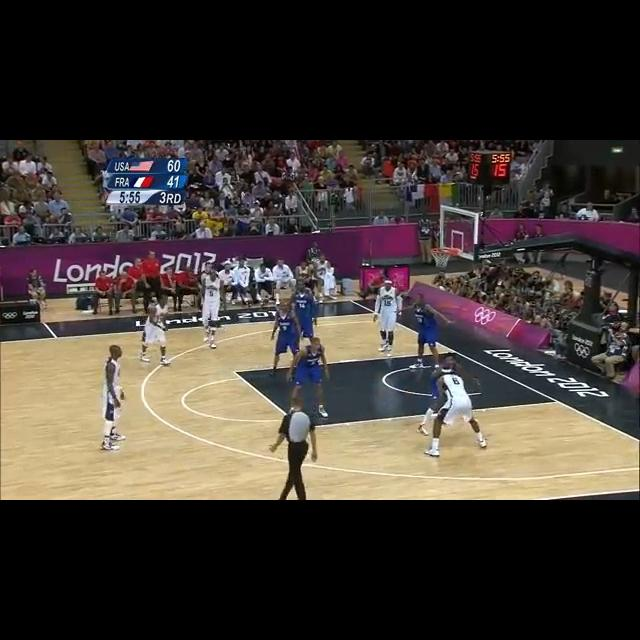hoop: (432, 246, 455, 269)
